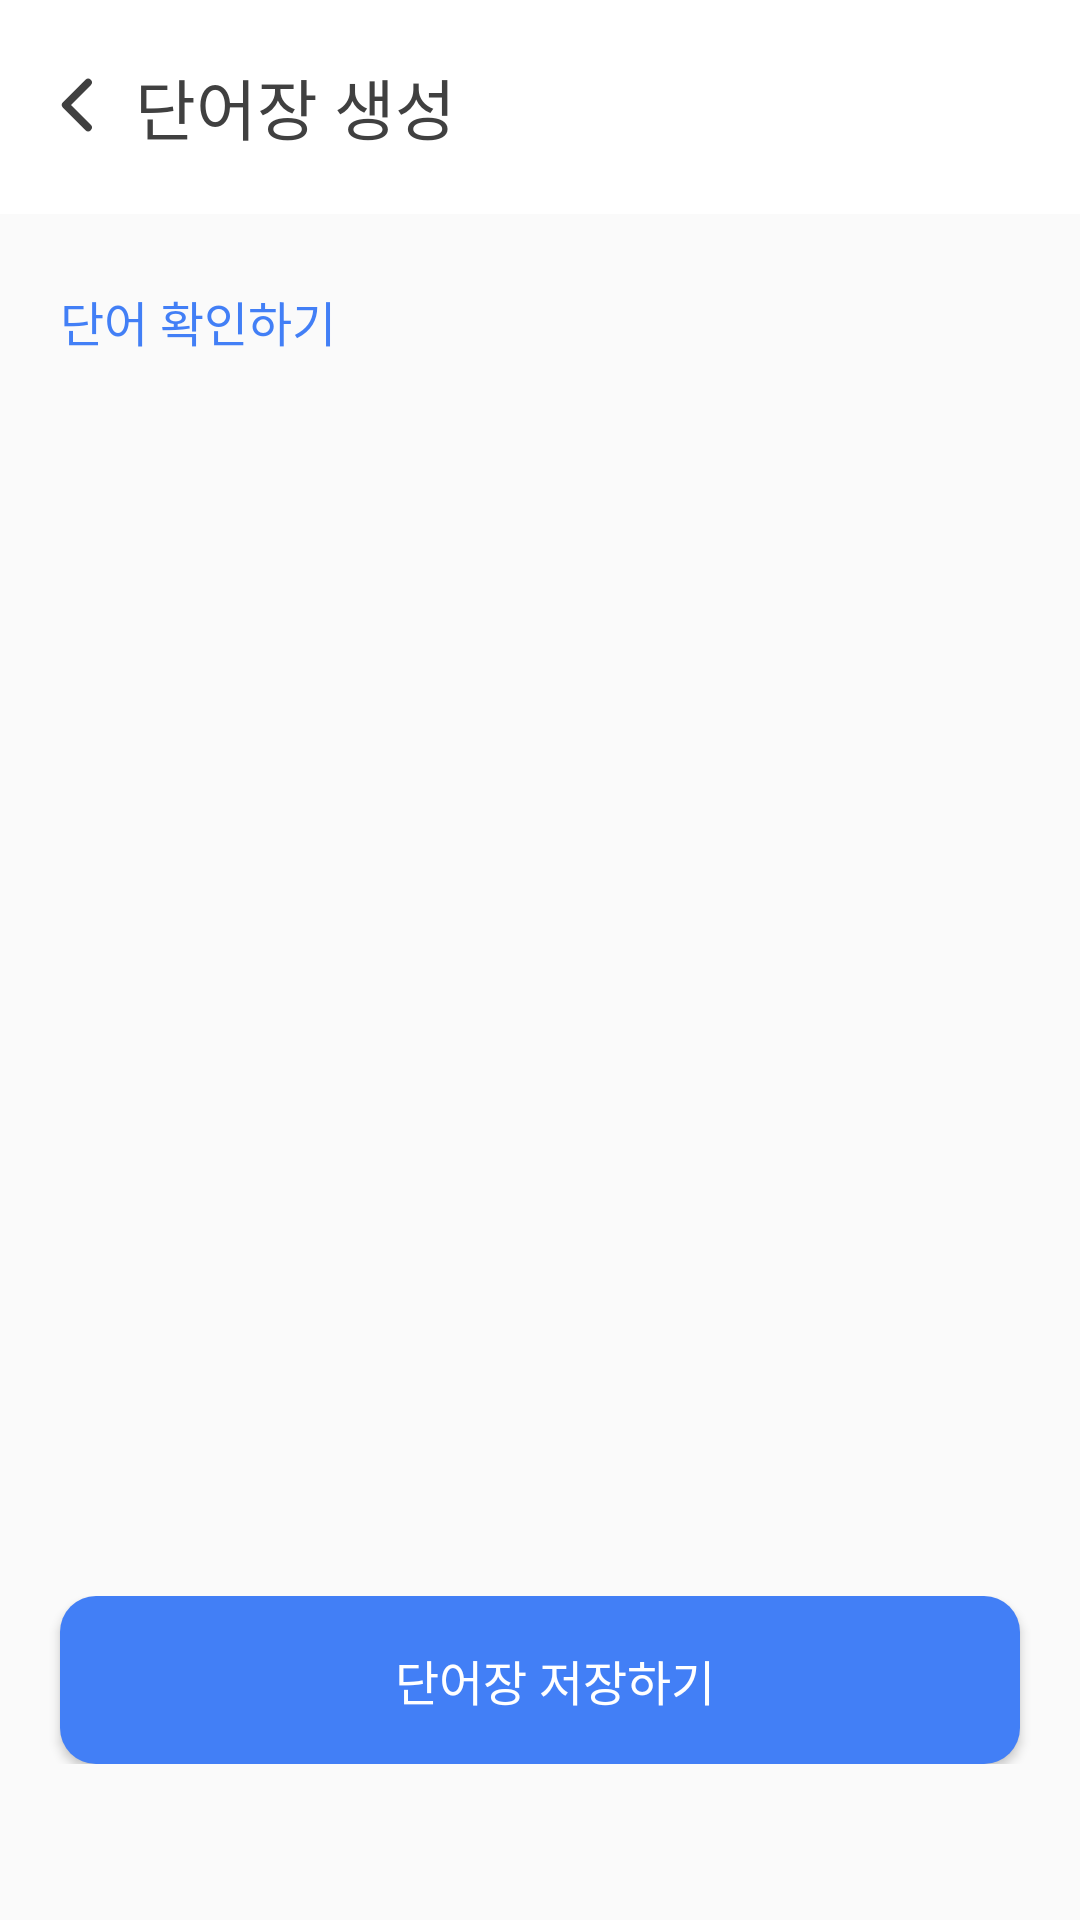

Screen size 1080w x 1920h. Icon name, then its center in pixels as (x,y):
back: (76,105)
